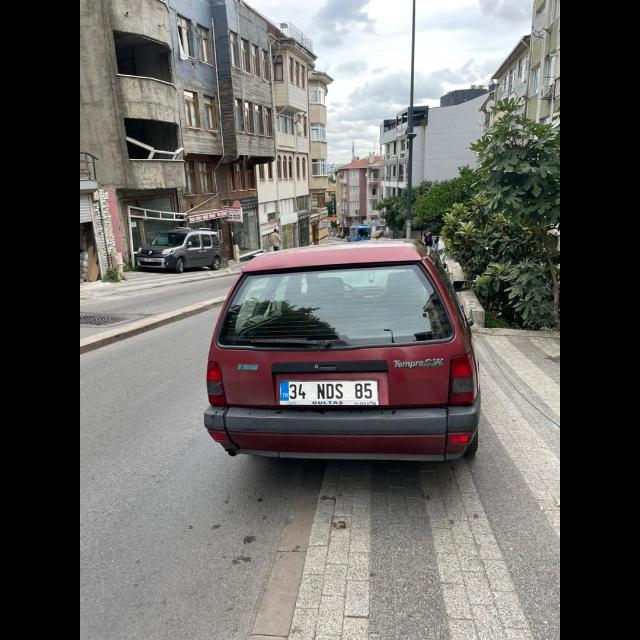Plaka: (280, 378, 378, 399)
